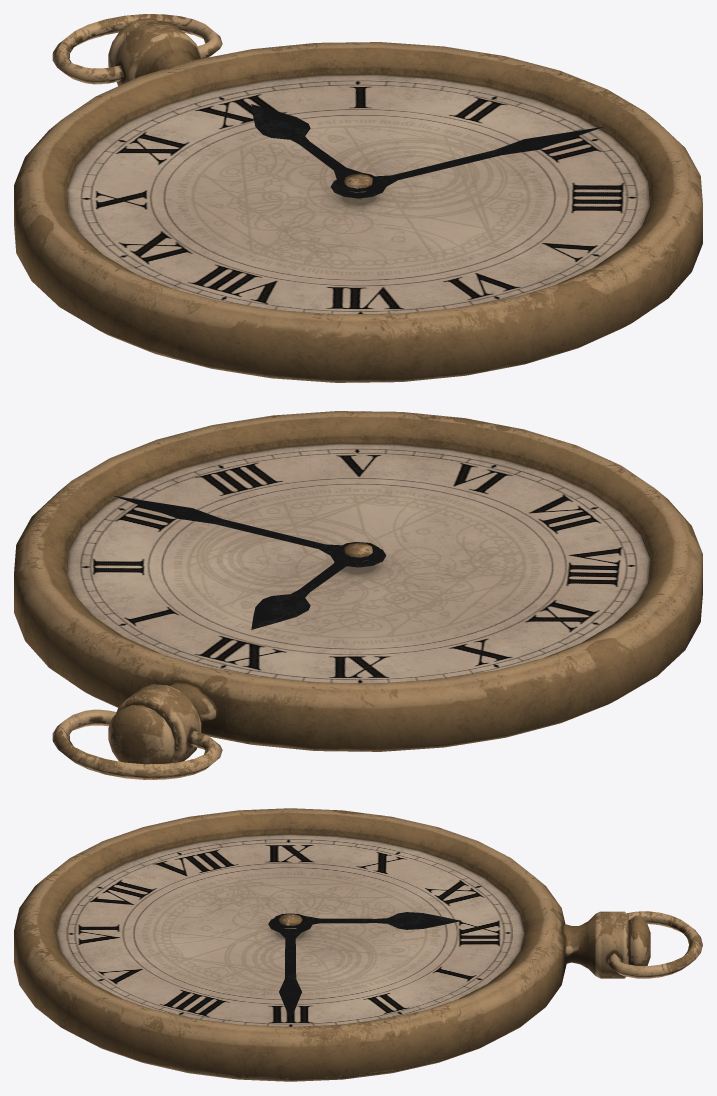
3 views of the same model, one above another, from view 1: azimuth 30°, elevation 25°; view 2: azimuth 150°, elevation 25°; view 3: azimuth 270°, elevation 25° (orthographic). The views are drawn at different scales.
Visible parts, largest first — view 1: Watch; view 2: Watch; view 3: Watch.
Boxes of the visible parts, x1,y1,x2,y2 form: Watch: (14,14,702,382); Watch: (14,411,702,779); Watch: (14,808,702,1081).
Bounding box in the file's own units: 0.1048 × 0.1305 × 0.02.
Materials: 1 (1 with a texture image).
